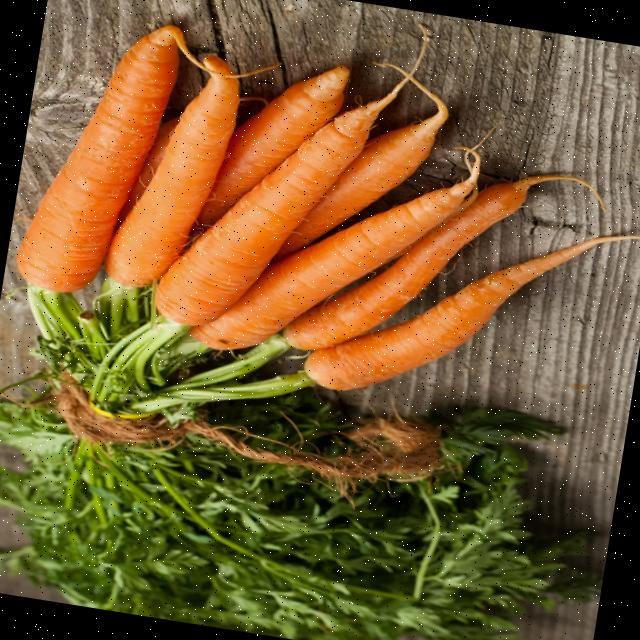carrot: (189, 177, 472, 350), (155, 107, 375, 326), (17, 28, 179, 292), (305, 243, 586, 390), (283, 183, 528, 350), (104, 75, 239, 287), (194, 66, 349, 228), (275, 124, 435, 259)
